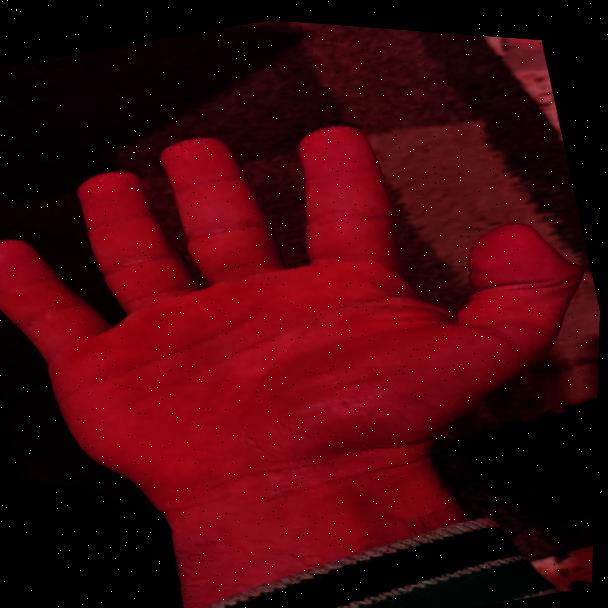five: (0, 44, 603, 541)
